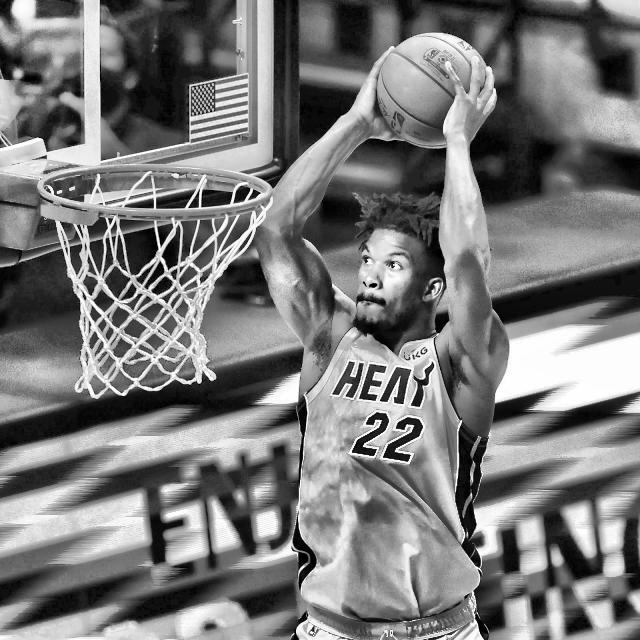Basketball: (378, 32, 486, 148)
